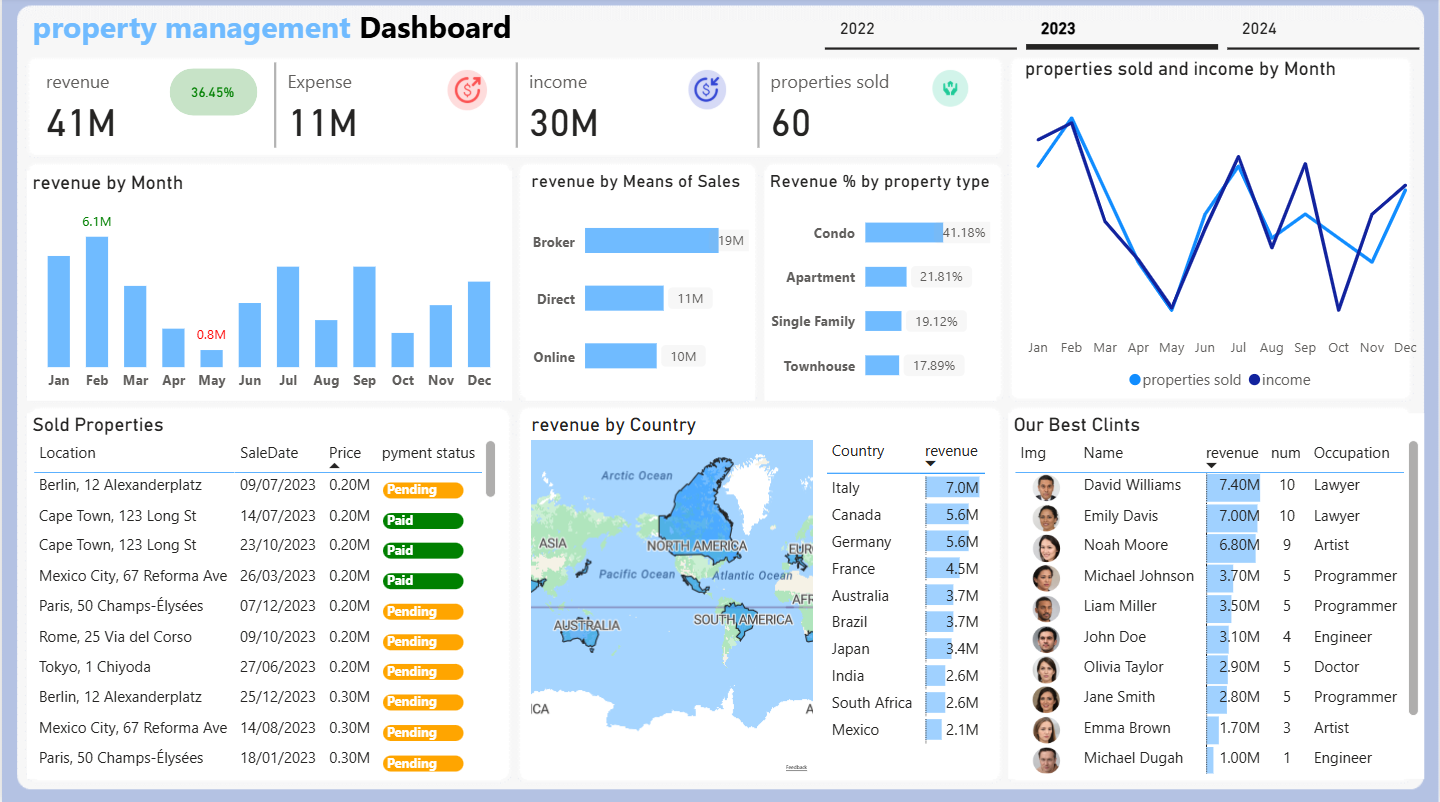

This screenshot's page, from the dashboard's own definition file:
{"tool":"powerbi","page":{"name":"Page 1","canvas":[1280,720],"ordinal":0},"visuals":[{"type":"card","fields":{"Values":["ALL Measures.revenue growth %"]},"box":[149.6,65.1,77.2,42.2],"z":0},{"type":"shape","box":[149.6,63.9,78.4,42.2],"z":1000},{"type":"columnChart","fields":{"Y":["ALL Measures.revenue"],"Category":["Calendar.Month"]},"box":[21.7,154.4,431.9,205.1],"z":2000},{"type":"clusteredBarChart","fields":{"Y":["ALL Measures.revenue"],"Category":["Sales_Table.Means of Sales"]},"box":[466.9,154.4,203.9,205.1],"z":3000},{"type":"clusteredBarChart","title":"Revenue % by property type","fields":{"Category":["Property_Table.Type"],"Y":["ALL Measures.% GT"]},"box":[679.2,154.4,206.3,205.1],"z":4000},{"type":"tableEx","title":"Sold Properties ","fields":{"Values":["Property_Table.Location","Sales_Table.SaleDate","Sum(Property_Table.Price)","ALL Measures.pyment status"]},"box":[21.7,370.4,422.3,325.7],"z":5000},{"type":"azureMap","fields":{"Category":["Property_Table.Country"]},"box":[466.9,370.4,260.6,325.7],"z":6000},{"type":"advancedSlicerVisual","fields":{"Values":["Calendar.Year"]},"box":[727.5,1.2,539.3,51.9],"z":7000},{"type":"cardVisual","fields":{"Data":["ALL Measures.revenue","ALL Measures.Expense","ALL Measures.income","ALL Measures.properties sold"]},"box":[21.7,53.1,863.8,86.9],"z":8000},{"type":"image","box":[589.3,60.3,78.4,44.6],"z":9000},{"type":"image","box":[375.2,60.3,78.4,45.8],"z":10000},{"type":"image","box":[803.5,60.3,82,42.2],"z":11000},{"type":"tableEx","fields":{"Values":["Property_Table.Country","ALL Measures.revenue"]},"box":[727.5,386.1,158,299.2],"z":12000},{"type":"tableEx","title":"Our Best Clints ","fields":{"Values":["Client_Table.Img","Client_Table.Name","ALL Measures.revenue","ALL Measures.properties sold","Client_Table.Occupation"]},"box":[896.4,370.4,370.4,325.7],"z":13000},{"type":"lineChart","fields":{"Y":["ALL Measures.properties sold"],"Category":["Calendar.Month"],"Y2":["ALL Measures.income"]},"box":[906,53.1,360.7,306.4],"z":14000},{"type":"textbox","box":[21.7,3.6,511.5,49.5],"z":14001}]}

Visuals, with their boxes in screenshot pixels (x1, y1, x2, y2), scaled from the page's 1280x720 canvas onto the 1440x802 screenshot:
card - ALL Measures.revenue growth %: locate(168, 73, 255, 120)
shape: locate(168, 71, 256, 118)
columnChart - ALL Measures.revenue x Calendar.Month: locate(24, 172, 510, 400)
clusteredBarChart - ALL Measures.revenue x Sales_Table.Means of Sales: locate(525, 172, 755, 400)
"Revenue % by property type" clusteredBarChart: locate(764, 172, 996, 400)
"Sold Properties " tableEx: locate(24, 413, 500, 775)
azureMap - Property_Table.Country: locate(525, 413, 818, 775)
advancedSlicerVisual - Calendar.Year: locate(818, 1, 1425, 59)
cardVisual - ALL Measures.revenue x ALL Measures.Expense: locate(24, 59, 996, 156)
image: locate(663, 67, 751, 117)
image: locate(422, 67, 510, 118)
image: locate(904, 67, 996, 114)
tableEx - Property_Table.Country x ALL Measures.revenue: locate(818, 430, 996, 763)
"Our Best Clints " tableEx: locate(1008, 413, 1425, 775)
lineChart - ALL Measures.properties sold x Calendar.Month: locate(1019, 59, 1425, 400)
textbox: locate(24, 4, 600, 59)
